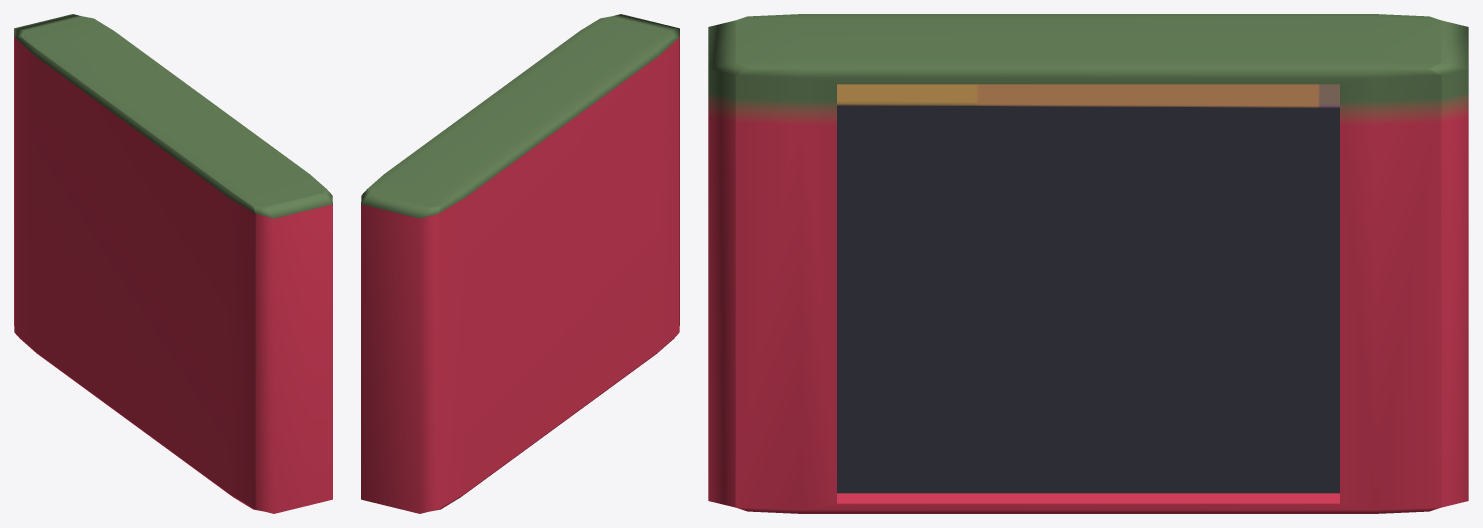
The model's file is BuildingSign_03.fbx.
3 views of the same model, side by side, from view 1: azimuth 30°, elevation 25°; view 2: azimuth 150°, elevation 25°; view 3: azimuth 270°, elevation 25° (orthographic). The views are drawn at different scales.
Visible parts, largest first — view 1: polySurface1058; view 2: polySurface1058; view 3: polySurface1058.
Boxes of the visible parts, <box> form: polySurface1058: <box>14,14,332,513</box>; polySurface1058: <box>361,14,679,513</box>; polySurface1058: <box>708,14,1468,513</box>.
Bounding box in the file's own units: 0.2143 × 0.7504 × 1.15.
